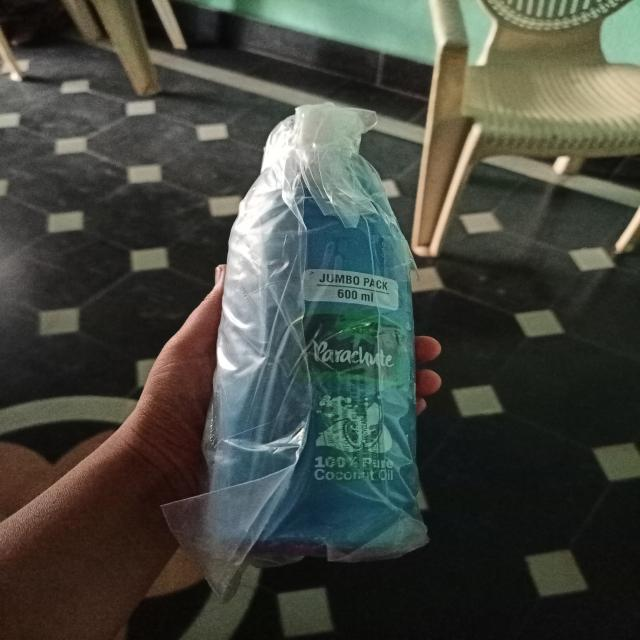parachute_oil: (208, 94, 438, 556)
